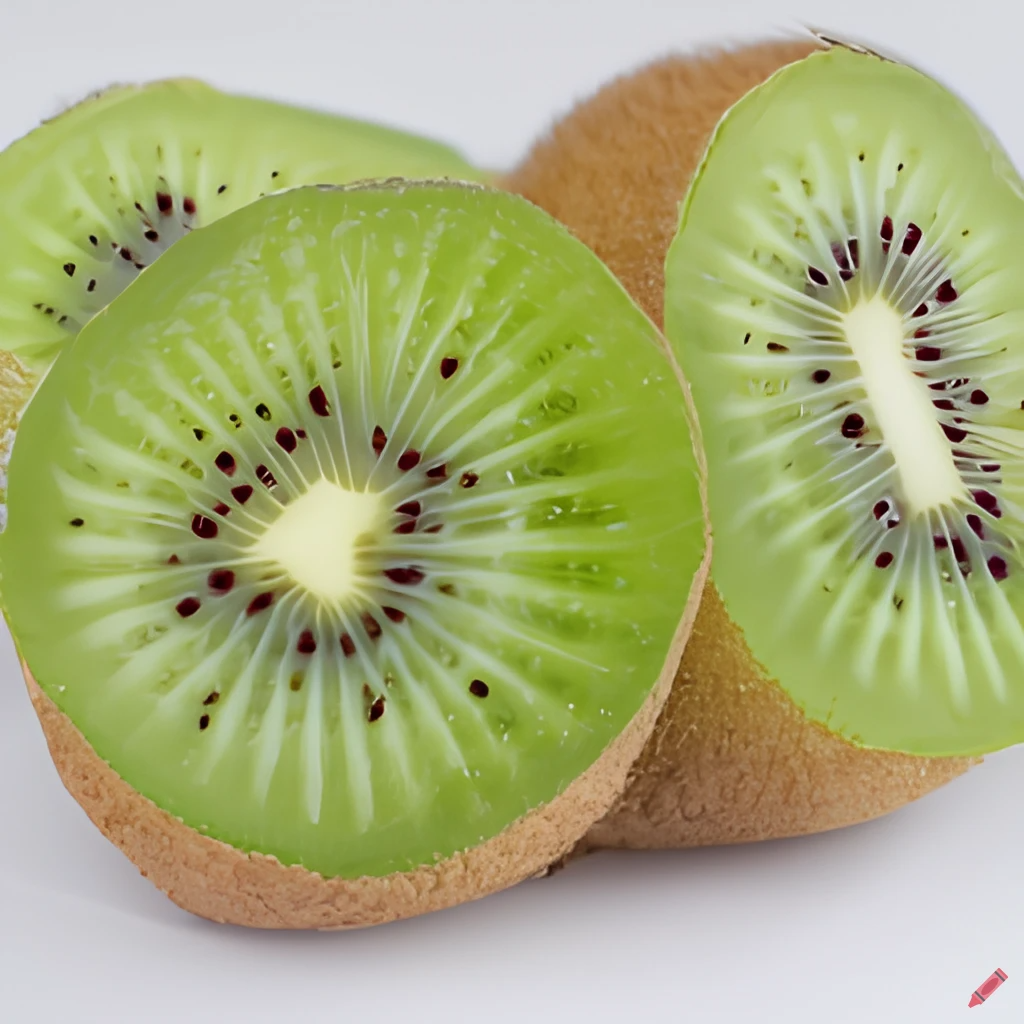Kiwi: (0, 186, 696, 918)
